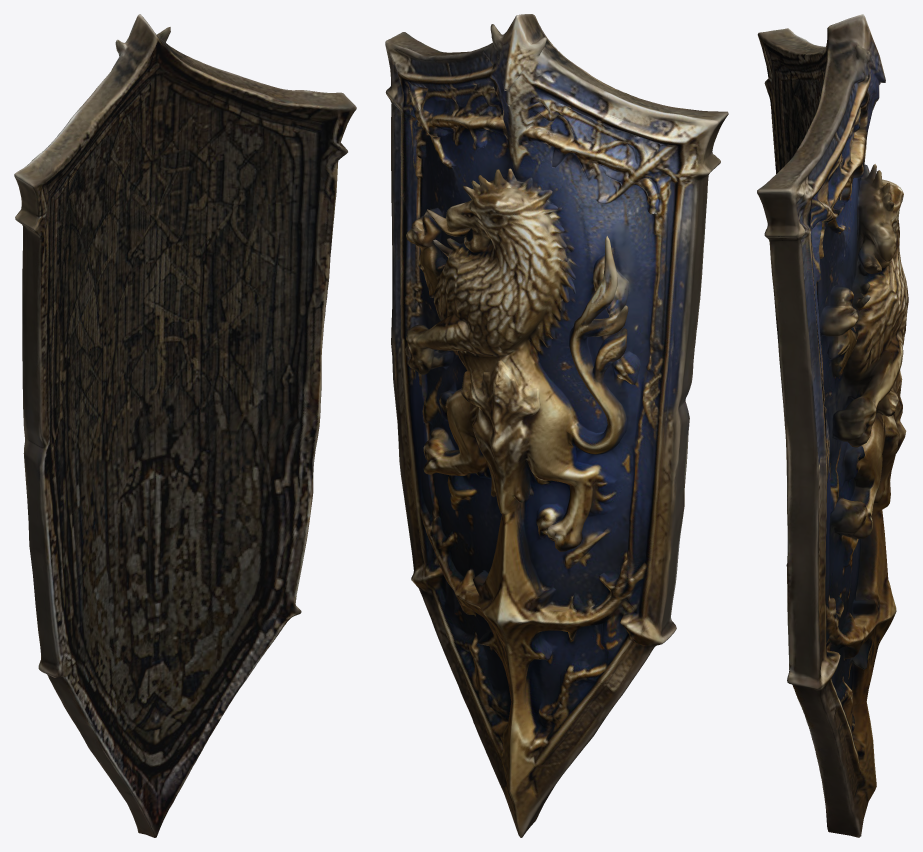
Rendered from tower_gold_lion.glb.
3 views of the same model, side by side, from view 1: azimuth 30°, elevation 25°; view 2: azimuth 150°, elevation 25°; view 3: azimuth 270°, elevation 25° (orthographic).
Visible parts, largest first — view 1: tower_gold_lion; view 2: tower_gold_lion; view 3: tower_gold_lion.
Part boxes in pixels (x1,y1,x2,y2): tower_gold_lion: (14,14,356,837); tower_gold_lion: (385,14,728,837); tower_gold_lion: (757,14,908,837).
Size of the model in its own units: 0.4598 by 1.09 by 0.1813.
1 material, 1 textured.
